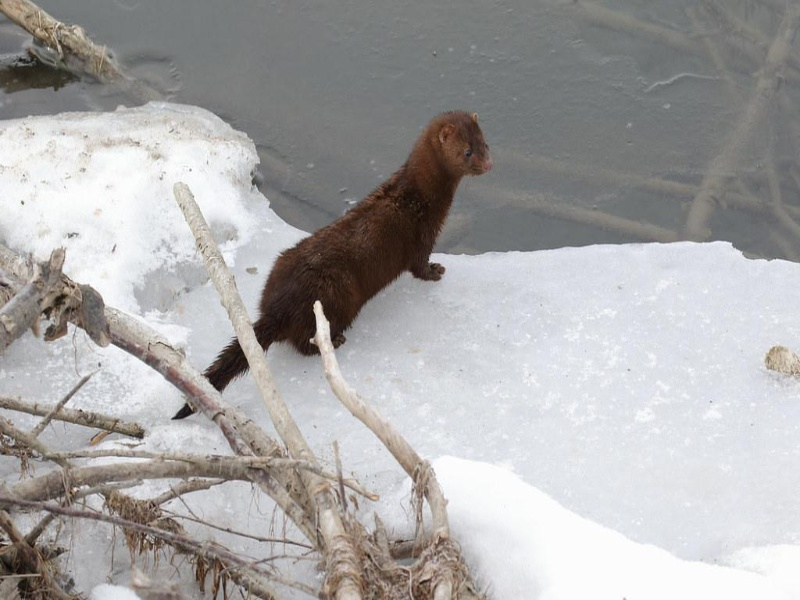minkish: (167, 106, 493, 427)
